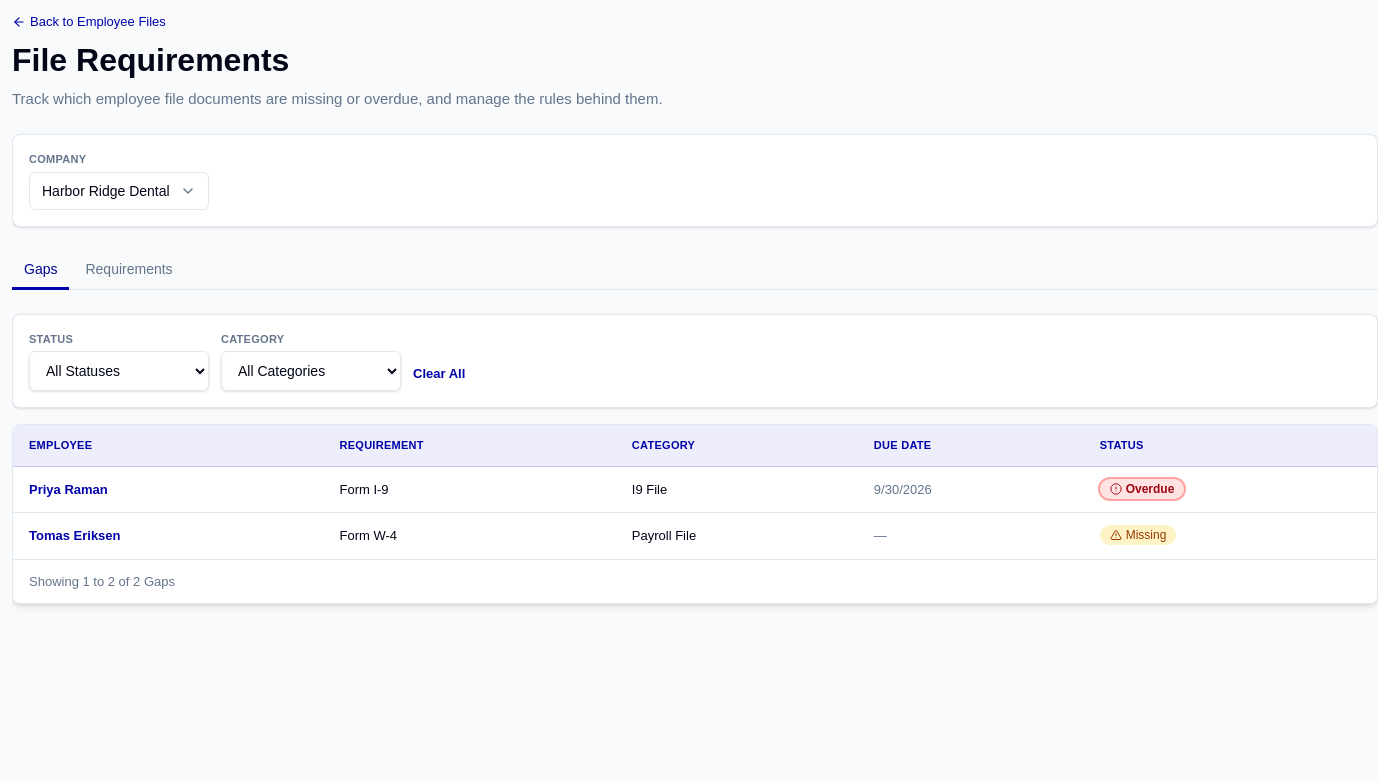
it: MhdEmployeeFileRequirementsPage gaps › filters by status and by category
The image size is (1378, 780).
Select "Overdue" in the dropdown labelled "Status" at [119, 371], box [29, 351, 209, 391]
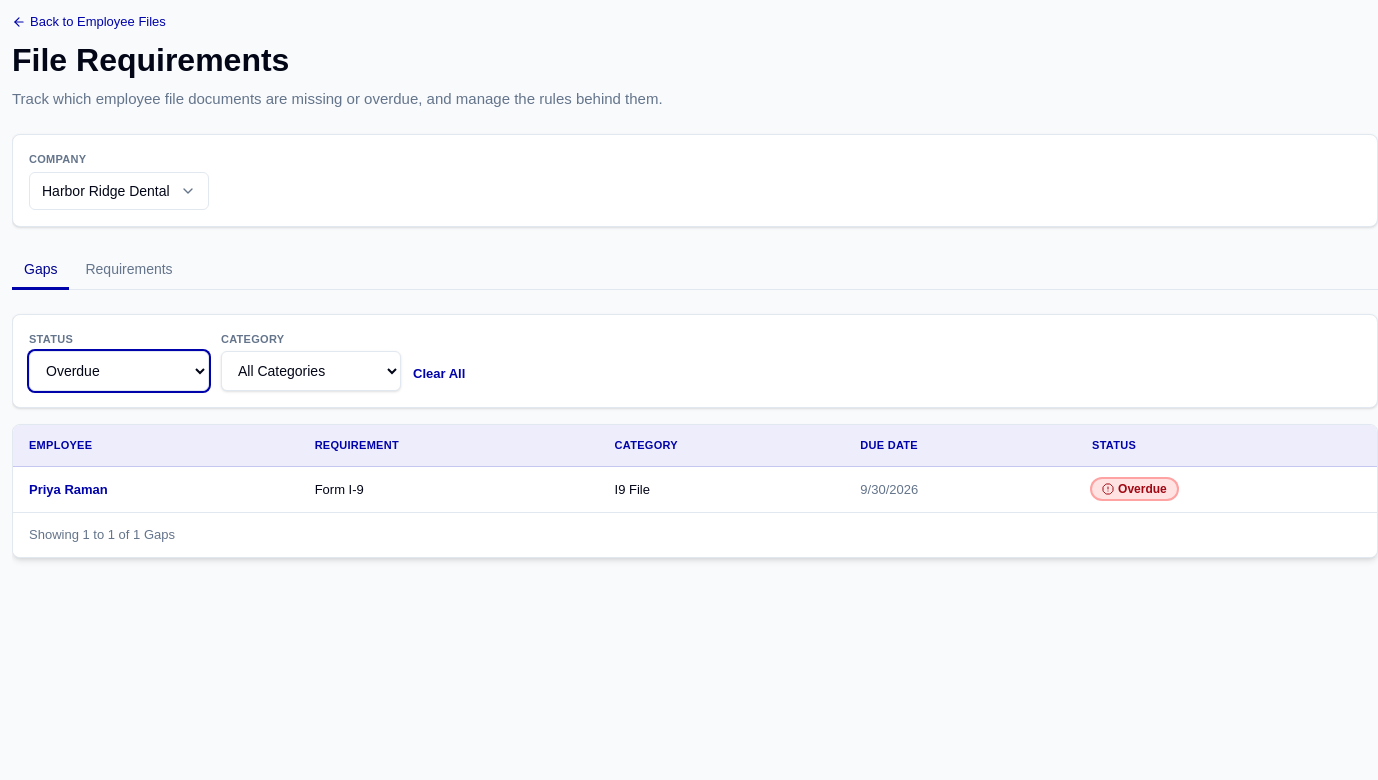
Expected: the link "Priya Raman" is shown, [29, 482, 108, 497]
Expected: the link "Tomas Eriksen" is gone
Select "All Statuses" in the dropdown labelled "Status" at [119, 371], box [29, 351, 209, 391]
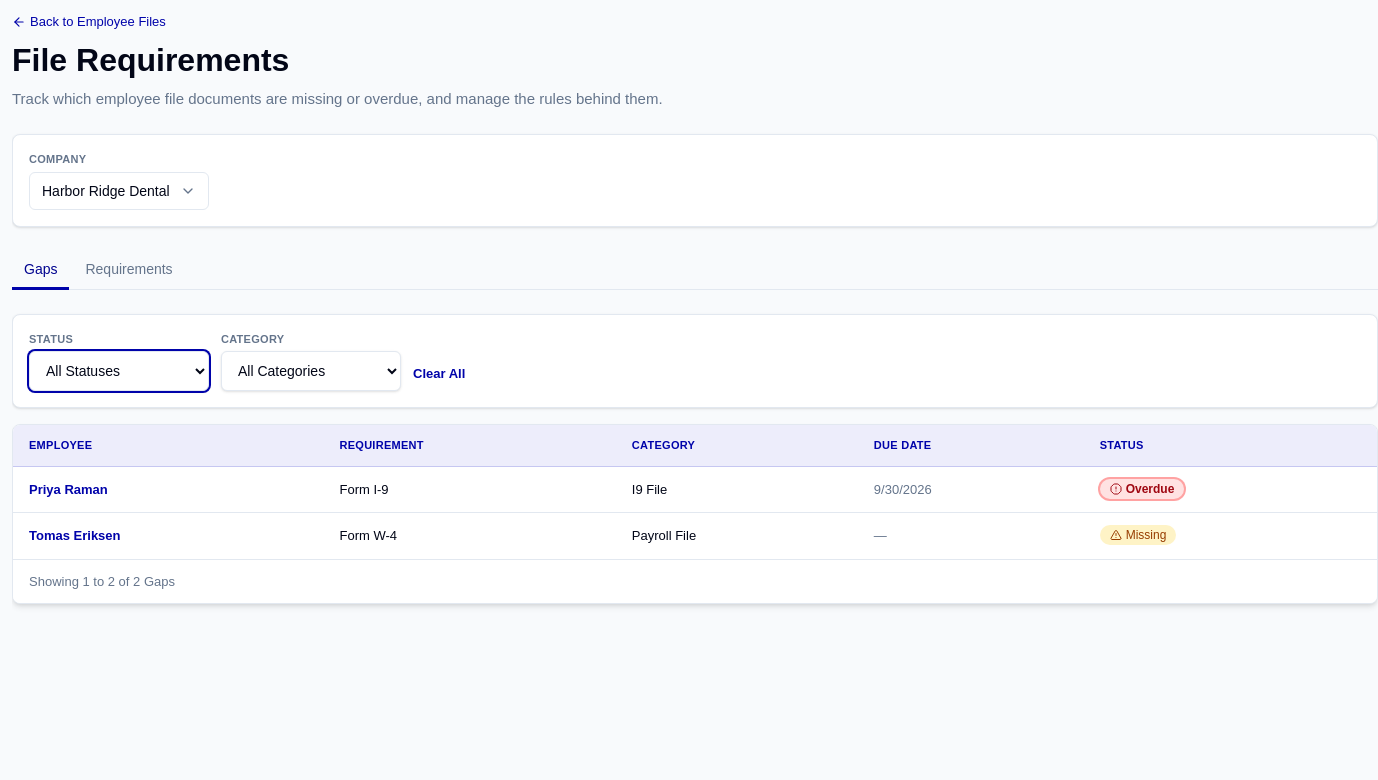
Select "Payroll File" in the dropdown labelled "Category" at [311, 371], box [221, 351, 401, 391]
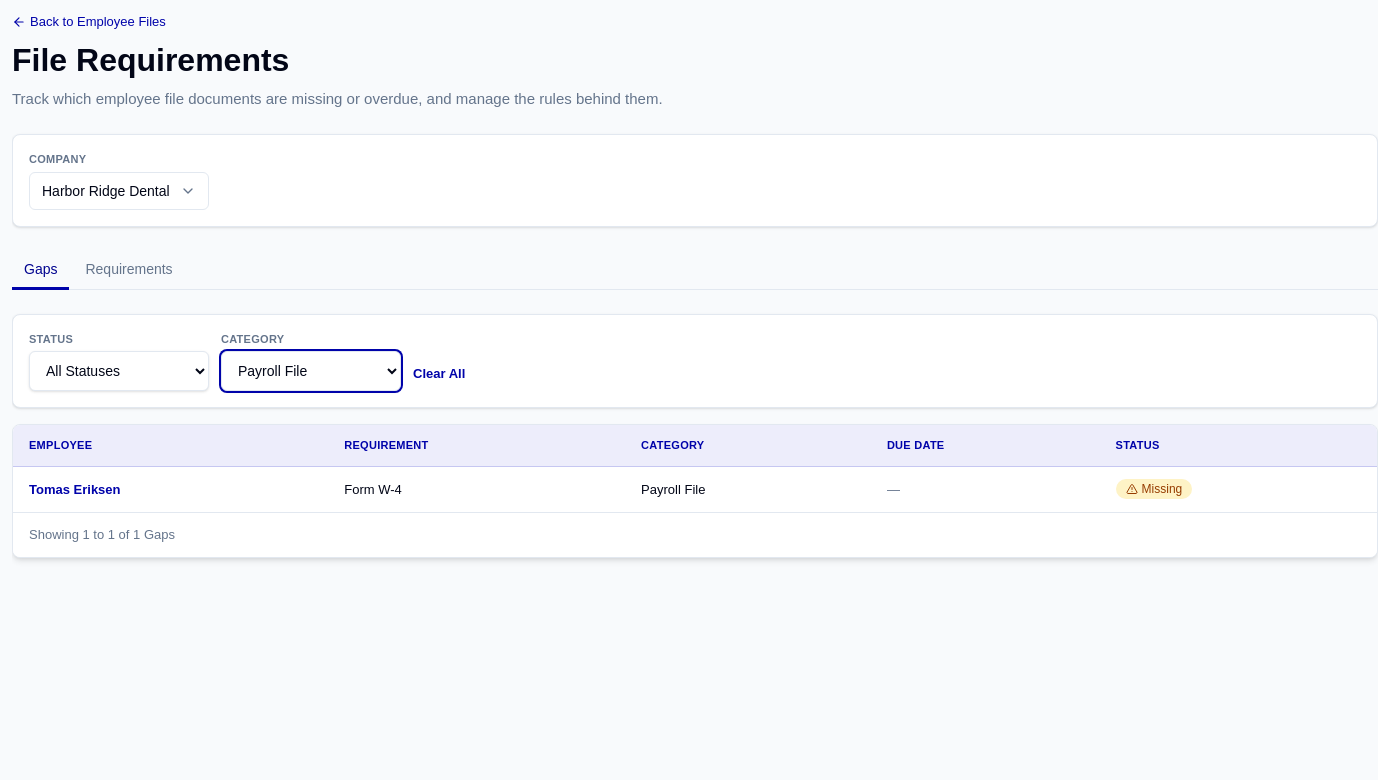
Expected: the link "Tomas Eriksen" is shown, [29, 482, 120, 497]
Expected: the link "Priya Raman" is gone
